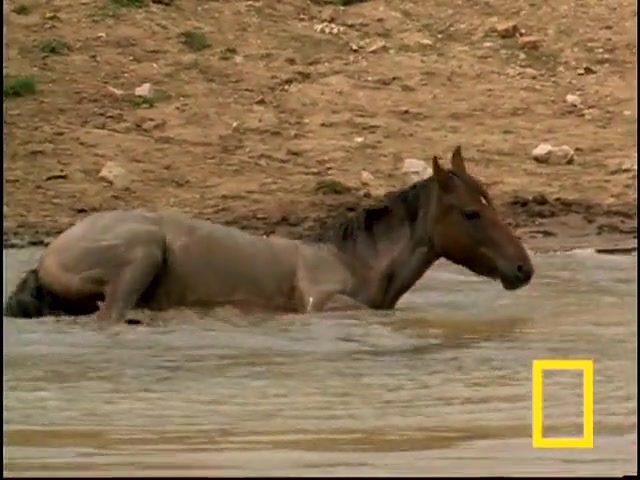horse: (4, 145, 537, 331)
